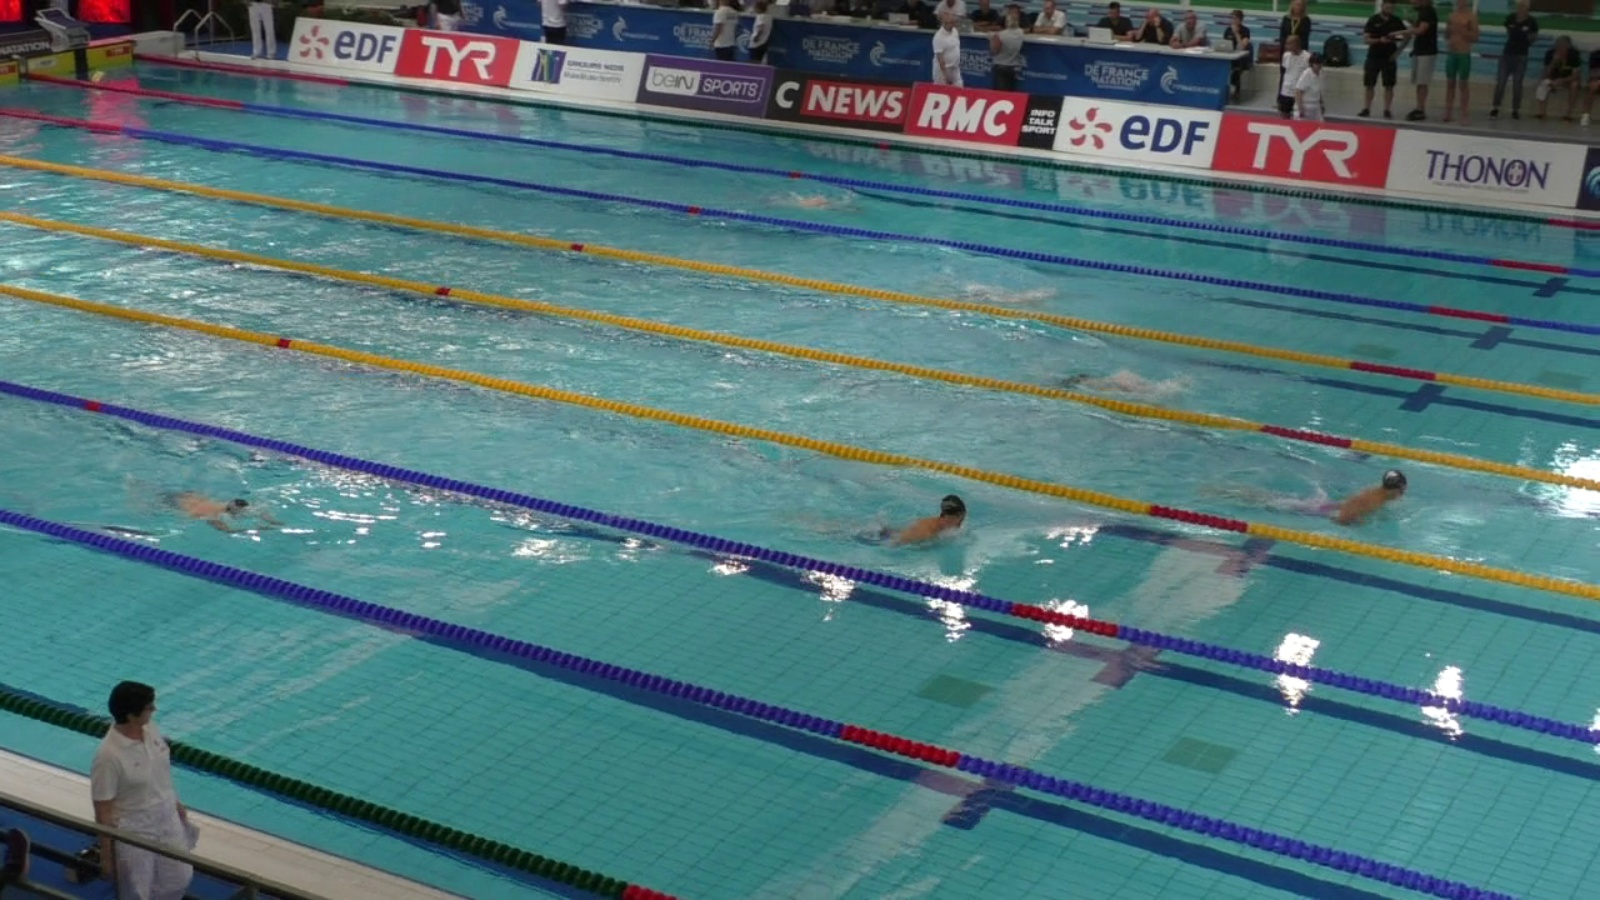swimmerw: (93, 465, 281, 555), (781, 492, 971, 551), (1199, 467, 1416, 516), (1037, 367, 1186, 400), (746, 191, 859, 213)
